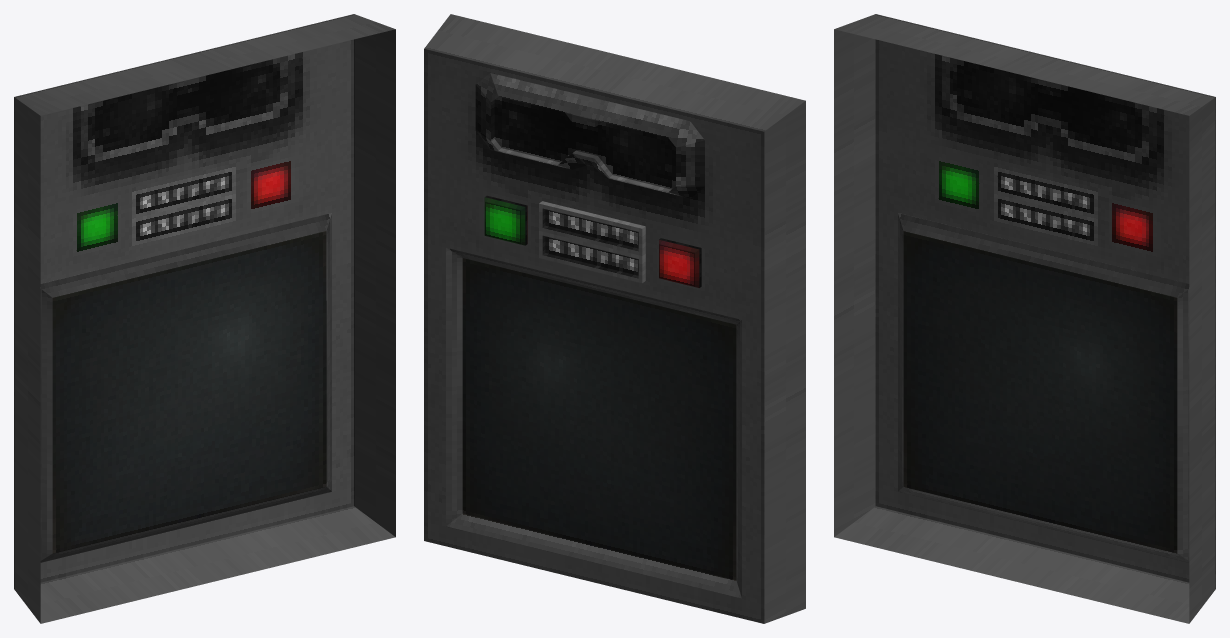
Rendered from scanner_1.glb.
3 views of the same model, side by side, from view 1: azimuth 30°, elevation 25°; view 2: azimuth 150°, elevation 25°; view 3: azimuth 330°, elevation 25° (orthographic).
Parts seen in each view (by area): view 1: scanner_1; view 2: scanner_1; view 3: scanner_1.
Part boxes in pixels (bbox=[...]): scanner_1: bbox=[14, 14, 395, 623]; scanner_1: bbox=[424, 14, 805, 623]; scanner_1: bbox=[834, 14, 1215, 623].
Size of the model in its own units: 0.3 by 0.41 by 0.06.
1 material, 1 textured.
